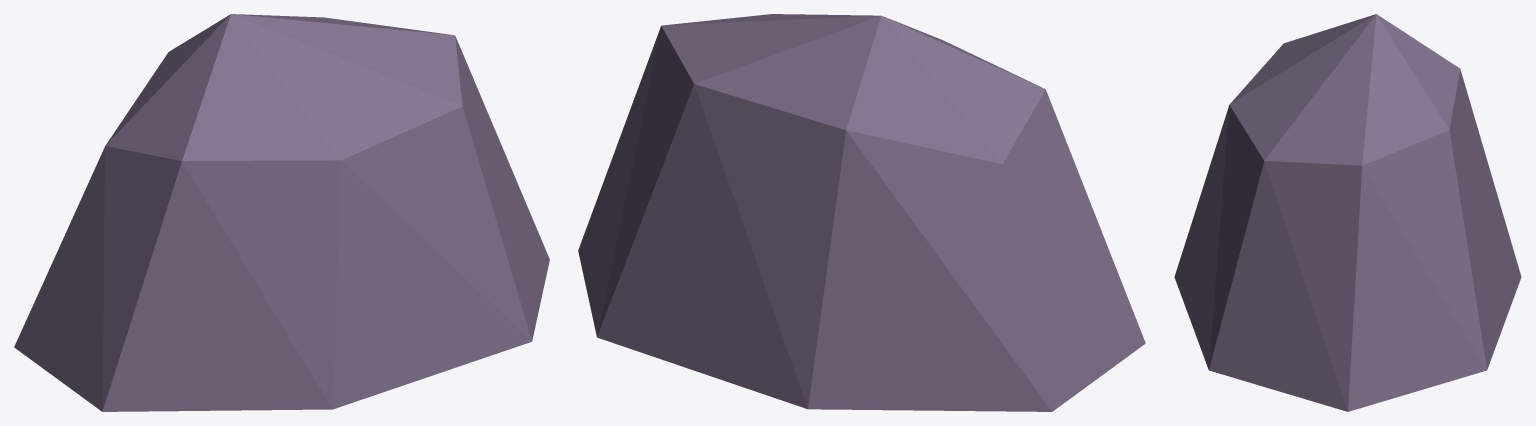
The picture shows the model from 3 angles, left to right: view 1: azimuth 30°, elevation 25°; view 2: azimuth 150°, elevation 25°; view 3: azimuth 270°, elevation 25°; orthographic projection. The views are drawn at different scales.
Visible parts, largest first — view 1: 区域散石_StonePurple.001; view 2: 区域散石_StonePurple.001; view 3: 区域散石_StonePurple.001.
Boxes of the visible parts, x1=… form: 区域散石_StonePurple.001: x1=14, y1=14, x2=549, y2=411; 区域散石_StonePurple.001: x1=578, y1=14, x2=1145, y2=411; 区域散石_StonePurple.001: x1=1174, y1=14, x2=1521, y2=411.
Bounding box in the file's own units: 0.4182 × 0.25 × 0.2925.
